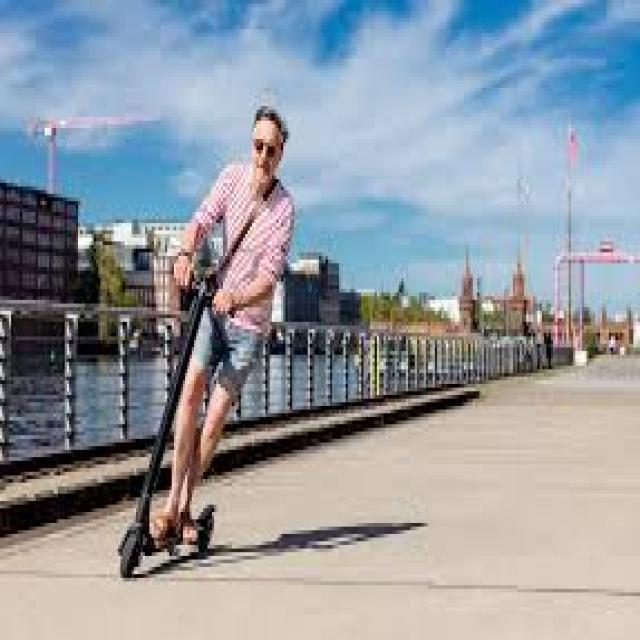non-helmet: (110, 88, 302, 589)
